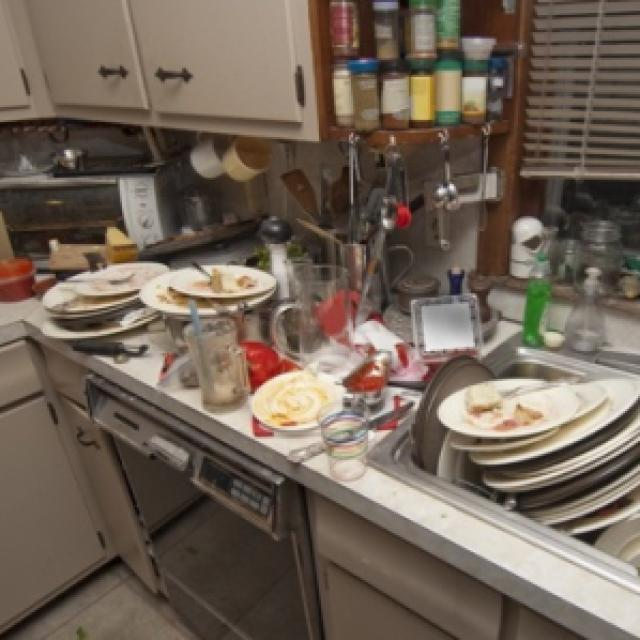mess: (44, 207, 640, 585)
